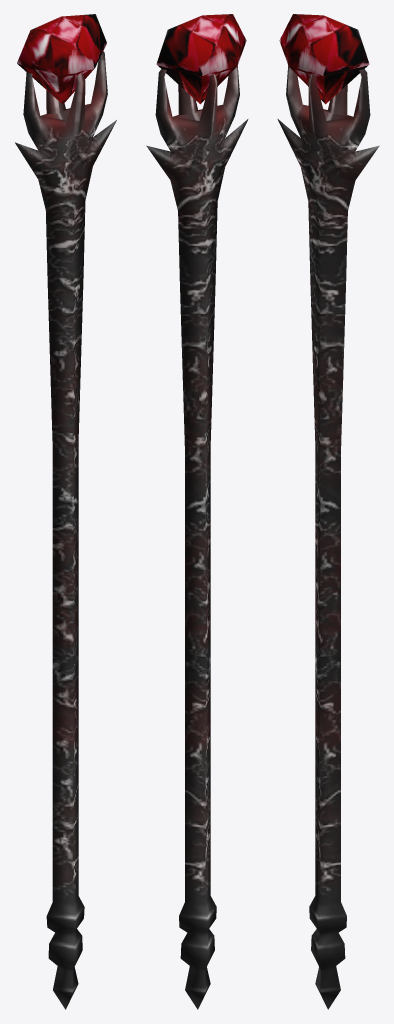
The model's file is staff08.fbx.
3 renders of one model, left to right at view 1: azimuth 30°, elevation 25°; view 2: azimuth 210°, elevation 25°; view 3: azimuth 330°, elevation 25°, orthographic.
Parts seen in each view (by area): view 1: Staff08; view 2: Staff08; view 3: Staff08.
Boxes of the visible parts, x1=… form: Staff08: x1=15, y1=14, x2=116, y2=1009; Staff08: x1=146, y1=14, x2=248, y2=1009; Staff08: x1=277, y1=14, x2=379, y2=1009.
Bounding box in the file's own units: 0.1912 × 1.76 × 0.1153.
